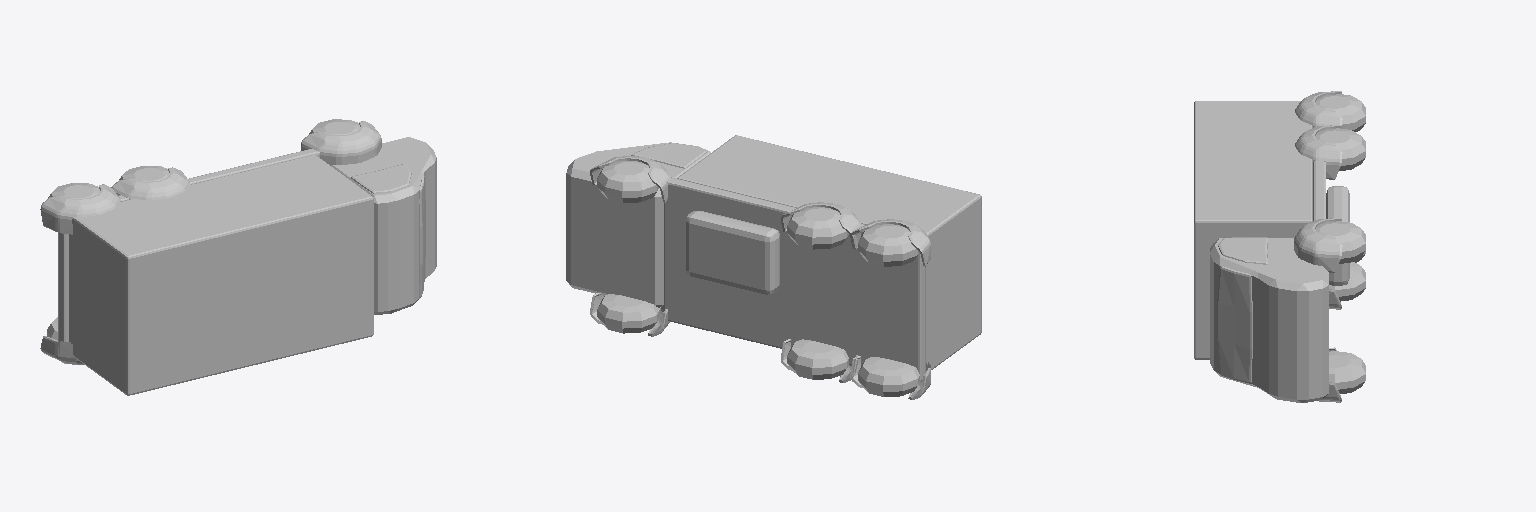
The model's file is Camion (1).obj.
3 renders of one model, left to right at view 1: azimuth 30°, elevation 25°; view 2: azimuth 150°, elevation 25°; view 3: azimuth 270°, elevation 25°, orthographic.
Parts seen in each view (by area): view 1: QUIEROUNCAMION; view 2: QUIEROUNCAMION; view 3: QUIEROUNCAMION.
Part boxes in pixels (x1,y1,x2,y2): QUIEROUNCAMION: (40, 119, 436, 395); QUIEROUNCAMION: (566, 135, 981, 399); QUIEROUNCAMION: (1194, 91, 1365, 402).
Bounding box in the file's own units: 38.98 × 16.47 × 15.64.